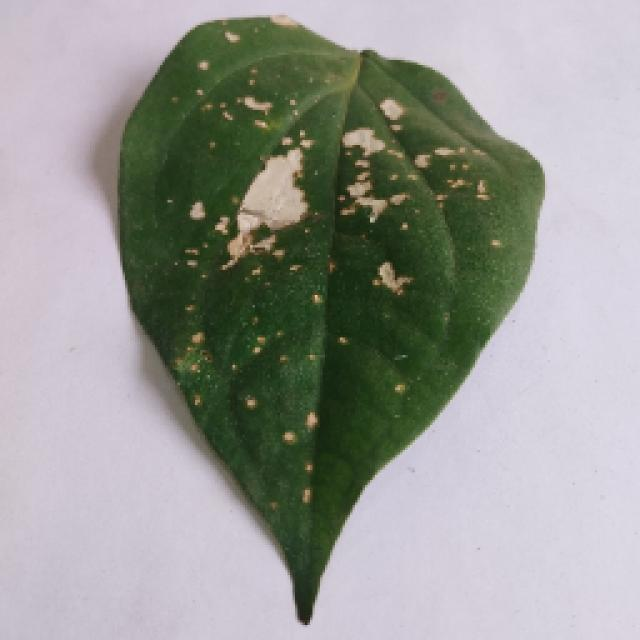pollu-disease: (38, 25, 592, 627)
